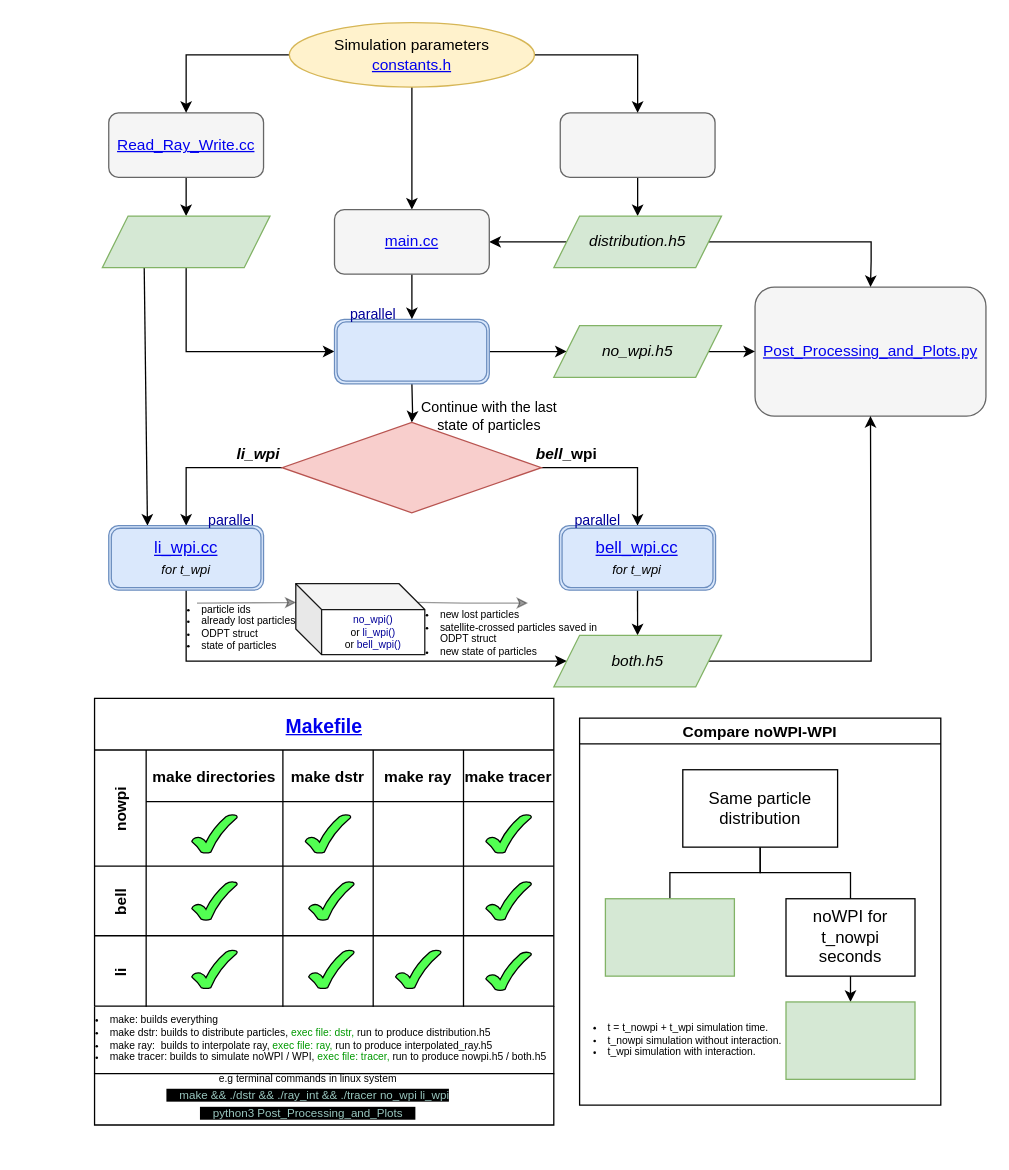
The diagram is 1009 pixels wide and 1170 high, and some of its shapes have lost their labels. Here are the shapes that lost their labels. From the top down, the centre of each, then its label:
At point (637, 144): "distribution.cc".
At point (185, 241): "interpolated_ray.h5".
At point (411, 351): "no_wpi.cc for t_nowpi".
At point (411, 467): "argv[2]=(li_wpi, bell_wpi)".
At point (669, 936): "noWPI for t seconds".
At point (850, 1040): "WPI for t_wpi seconds".
